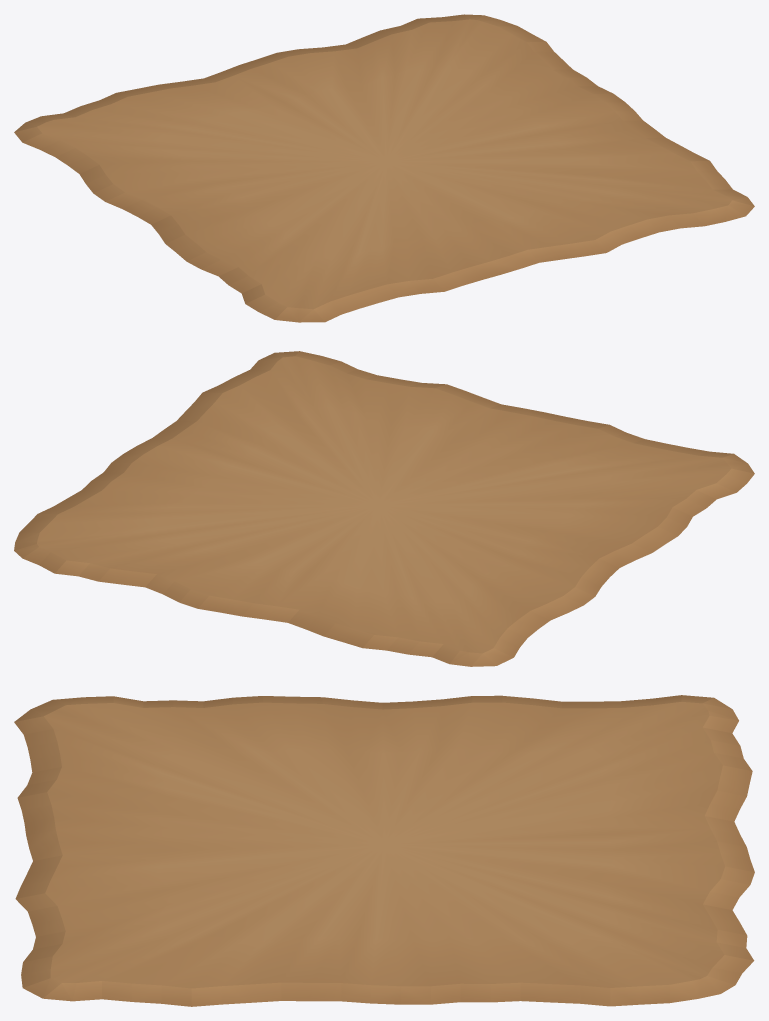
Rendered from Env_Footprint_3x3.fbx.
3 views of the same model, one above another, from view 1: azimuth 30°, elevation 25°; view 2: azimuth 150°, elevation 25°; view 3: azimuth 270°, elevation 25° (orthographic). The views are drawn at different scales.
Parts seen in each view (by area): view 1: Env_Footprint_3x3.001; view 2: Env_Footprint_3x3.001; view 3: Env_Footprint_3x3.001.
Part boxes in pixels (x1,y1,x2,y2): Env_Footprint_3x3.001: (14, 14, 754, 322); Env_Footprint_3x3.001: (14, 351, 754, 666); Env_Footprint_3x3.001: (14, 695, 754, 1006).
Bounding box in the file's own units: 2.98 × 0.028 × 2.99.
